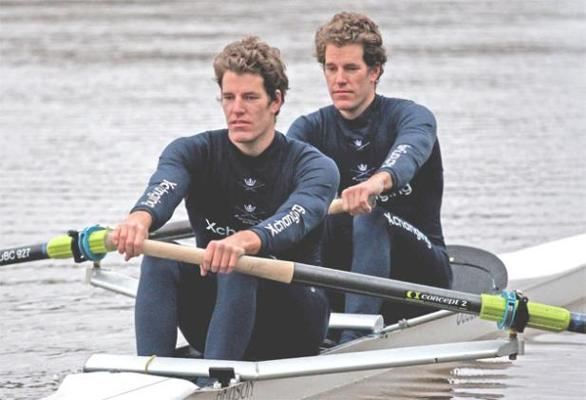person: (110, 32, 342, 392)
